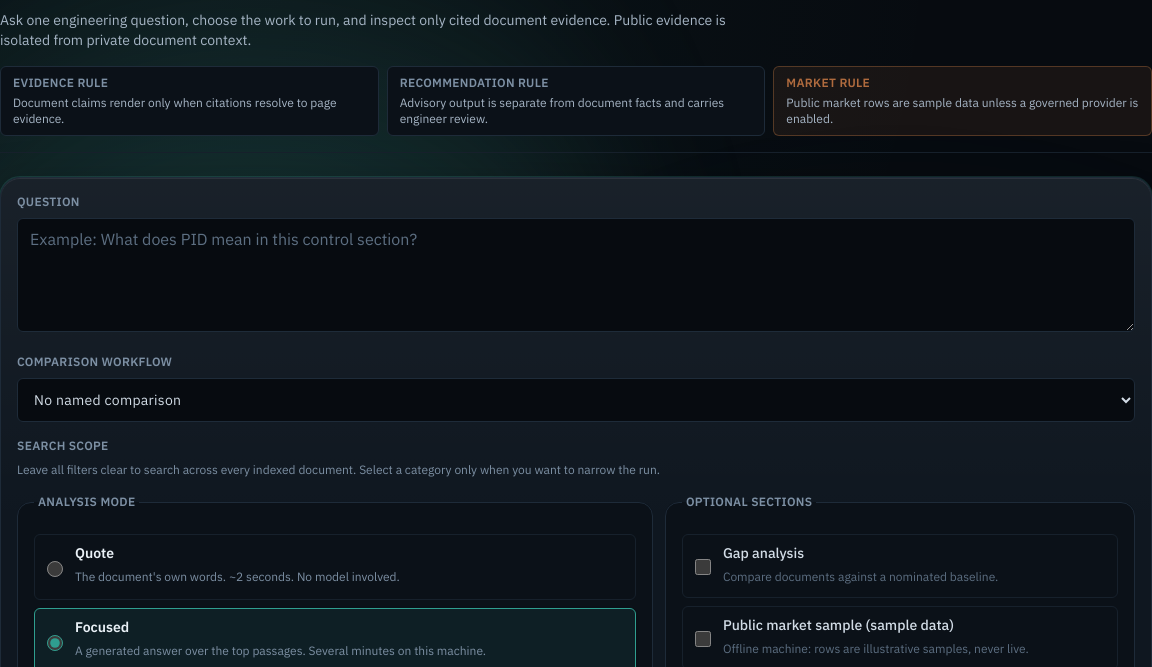
Test: #633: a document the question named but the answer could not read › is said on the screen, even when the summary itself is empty
Type "what does SAES-D-901 rev 3 say about relief" into the text box labelled "Question" at (576, 275), box [17,218,1135,332]
(page scrolled)
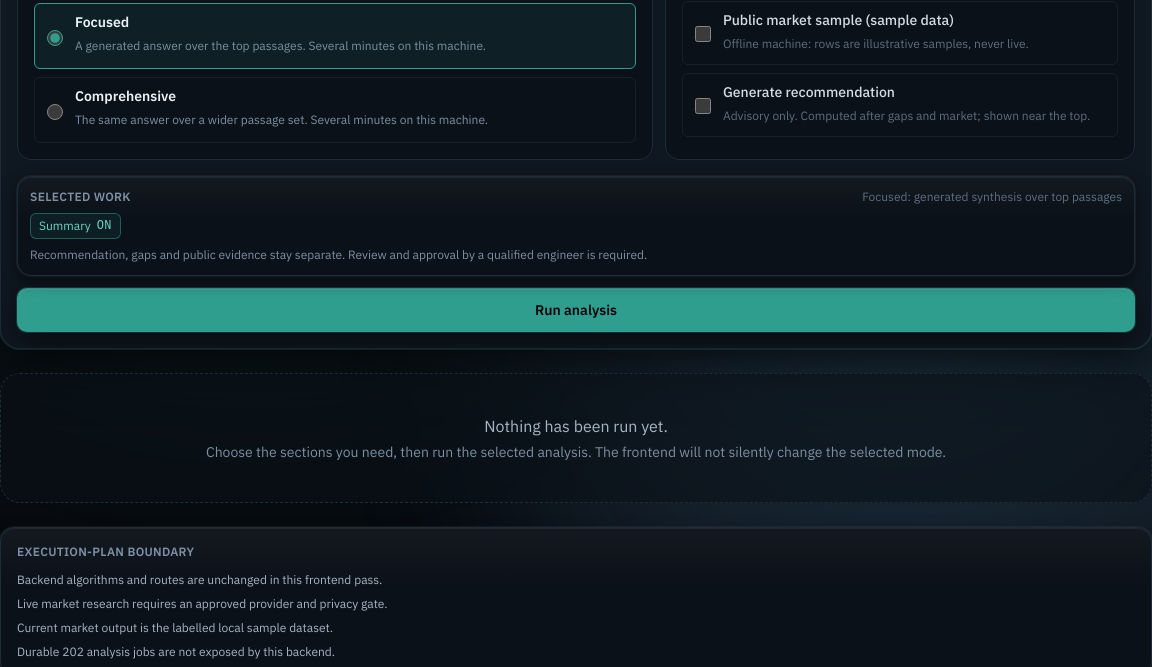
Click the button "Run analysis" at (576, 310), box [17,288,1135,332]
(page scrolled)
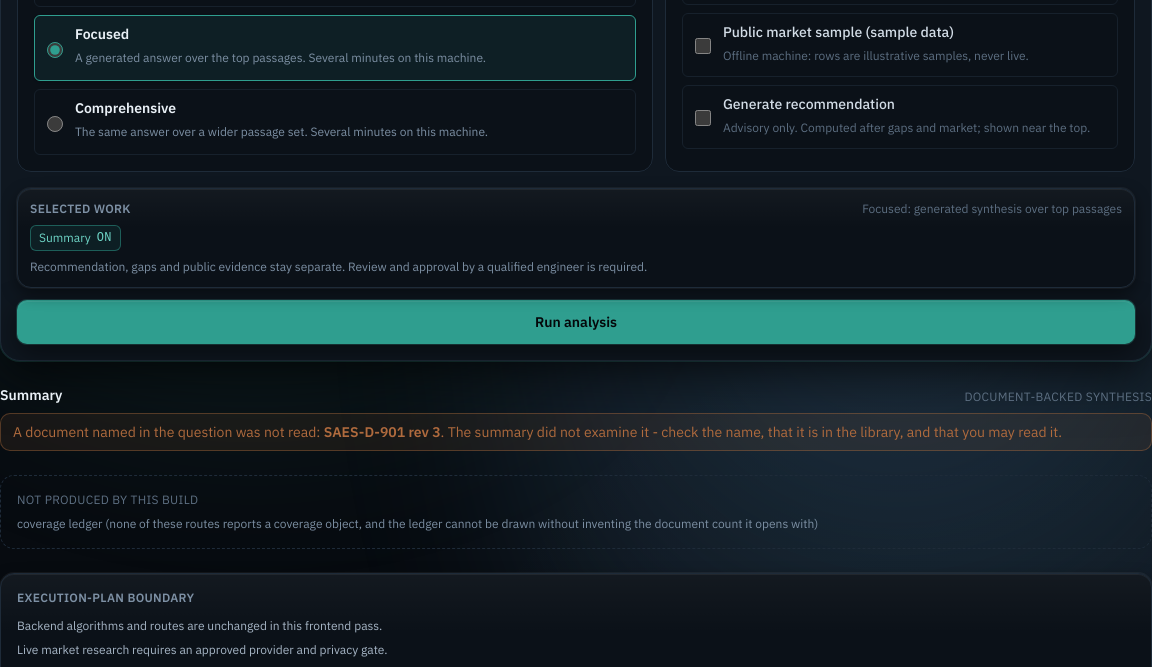
Now the message with test id "named-not-read" shows "A document named in the question was not read: SAES-D-901 rev 3", box [0,413,1151,451]
Now the message with test id "named-not-read" shows "The summary did not examine it", box [440,423,1062,441]
